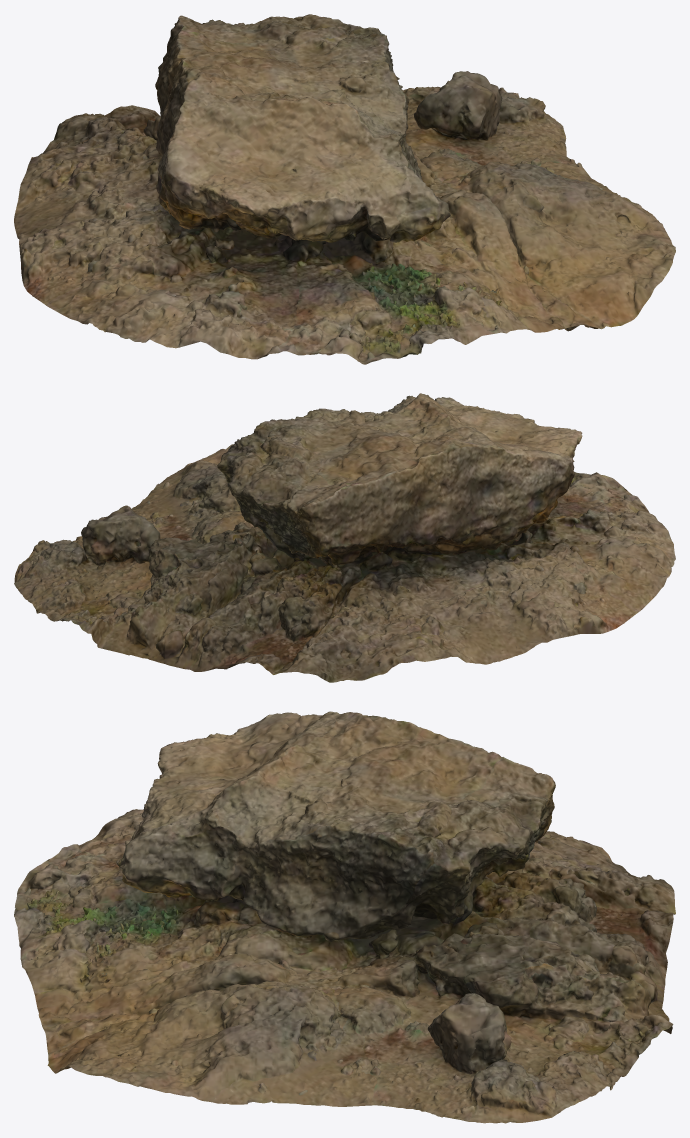
File: coast_rocks_05.glb
The picture shows the model from 3 angles, top to bottom: view 1: azimuth 30°, elevation 25°; view 2: azimuth 150°, elevation 25°; view 3: azimuth 270°, elevation 25°; orthographic projection. The views are drawn at different scales.
Parts seen in each view (by area): view 1: coast_rocks_05; view 2: coast_rocks_05; view 3: coast_rocks_05.
Part boxes in pixels (x1=…): coast_rocks_05: x1=14, y1=14, x2=675, y2=364; coast_rocks_05: x1=14, y1=393, x2=675, y2=682; coast_rocks_05: x1=14, y1=711, x2=675, y2=1123.
Size of the model in its own units: 4.04 by 1.33 by 3.75.
1 material, 1 textured.
